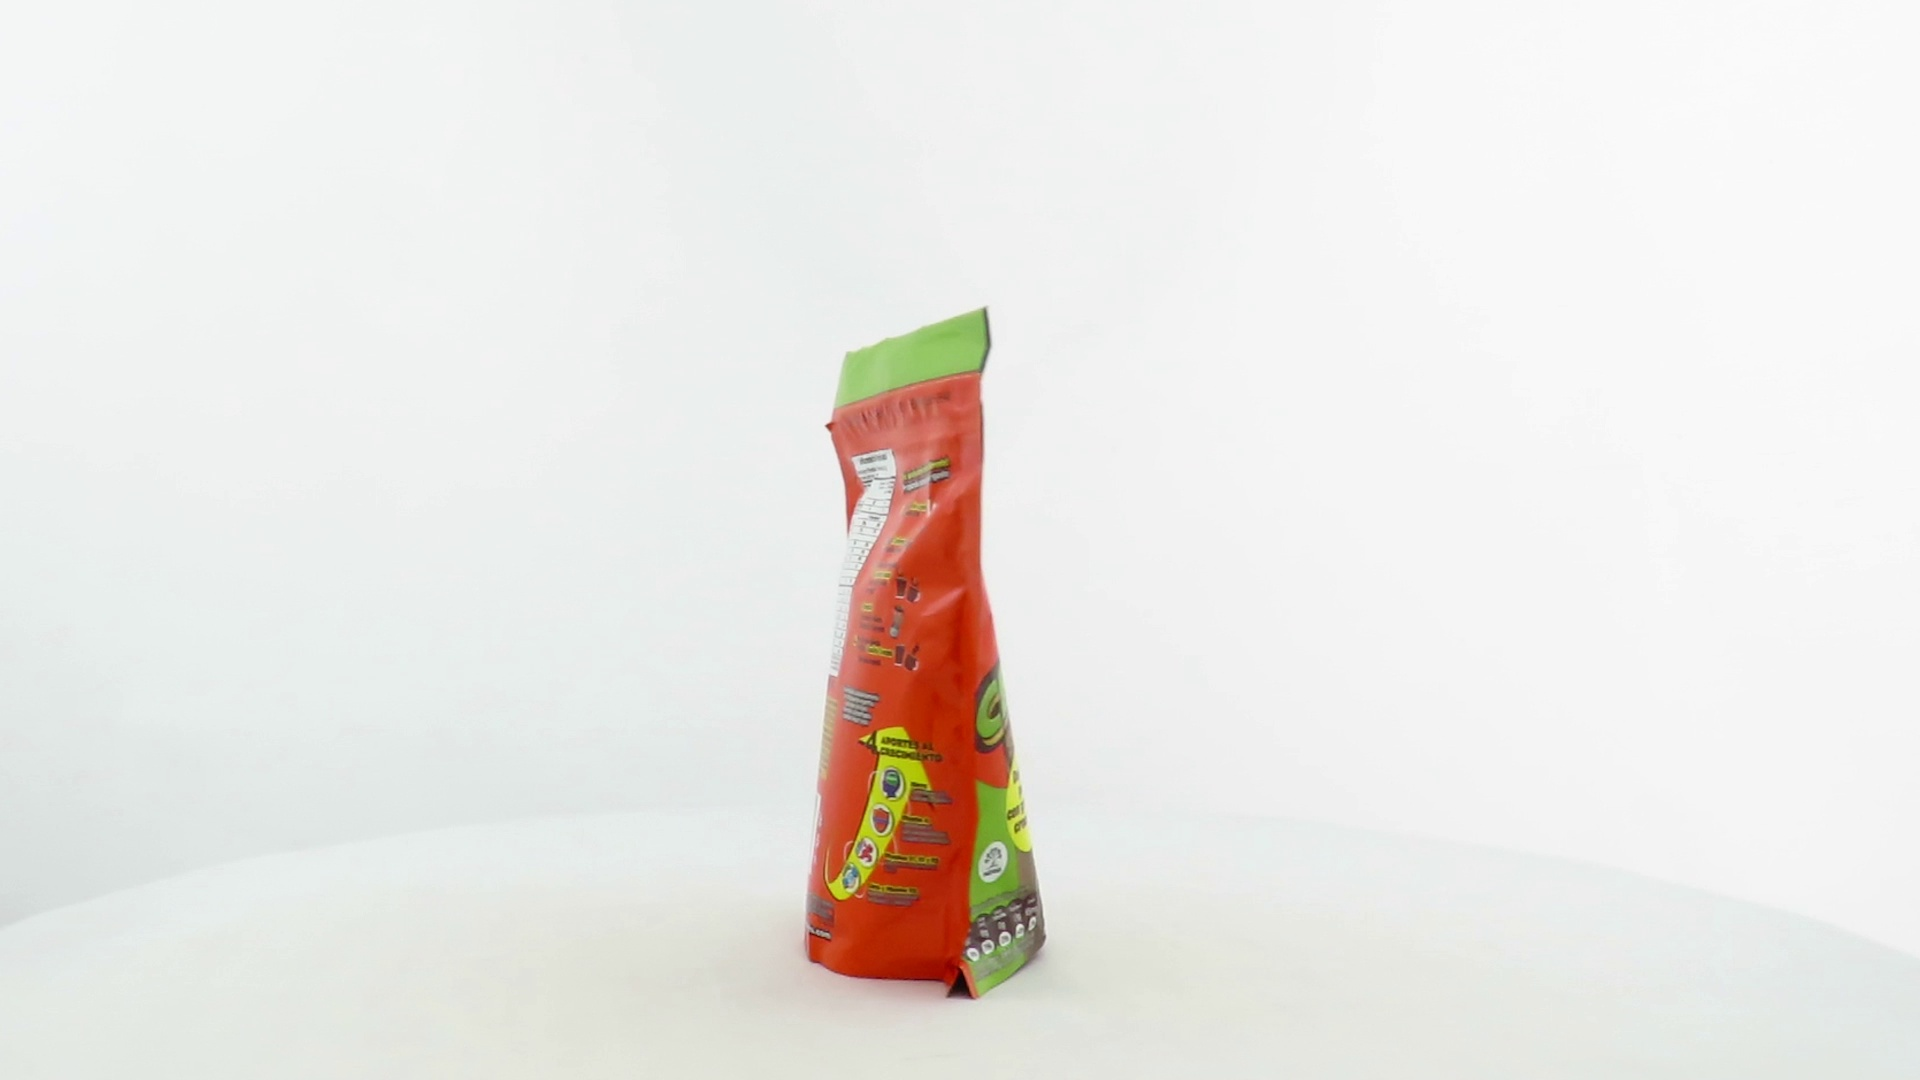COL0170102DYP10000: (799, 302, 1052, 1006)
